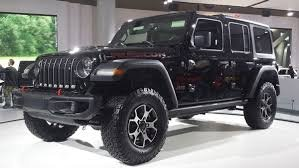mobil: (24, 8, 284, 166)
